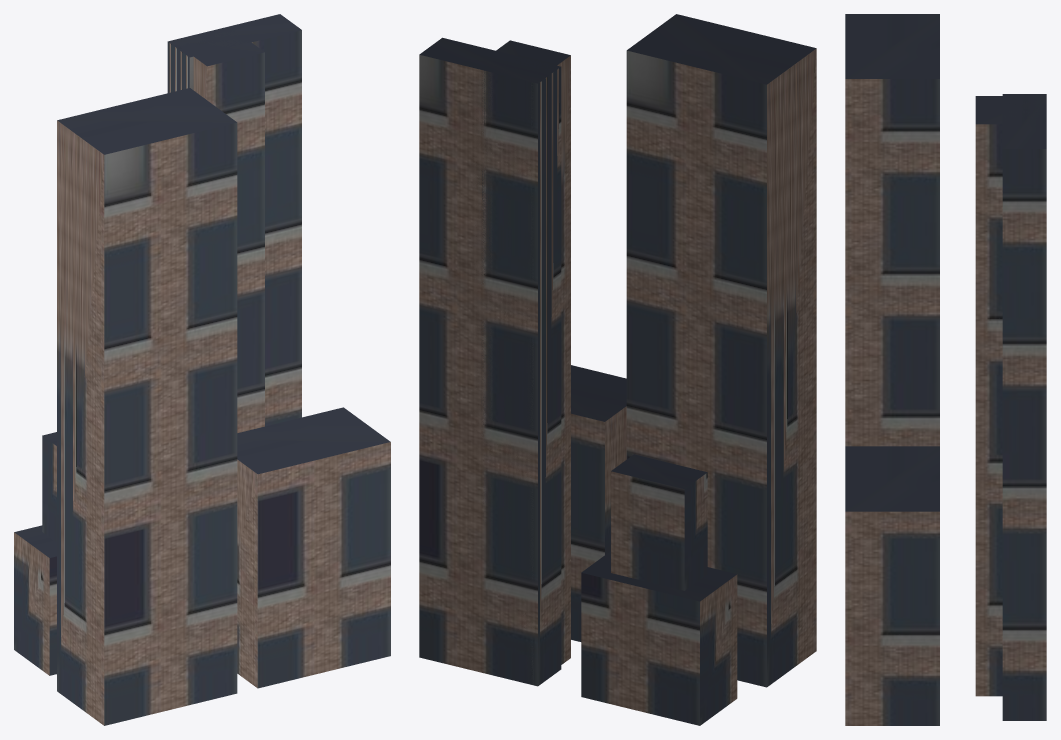
Rendered from city_block_12345_6_18.glb.
3 renders of one model, left to right at view 1: azimuth 30°, elevation 25°; view 2: azimuth 150°, elevation 25°; view 3: azimuth 270°, elevation 25°, orthographic. The views are drawn at different scales.
Visible parts, largest first — view 1: block_18; view 2: block_18; view 3: block_18.
Part boxes in pixels (left/top/right/bottom): block_18: left=14, top=14, right=390, bottom=725; block_18: left=419, top=14, right=816, bottom=725; block_18: left=845, top=14, right=1046, bottom=725.
Size of the model in its own units: 4.2 by 8 by 2.55.
Materials: 4 (4 with a texture image).
